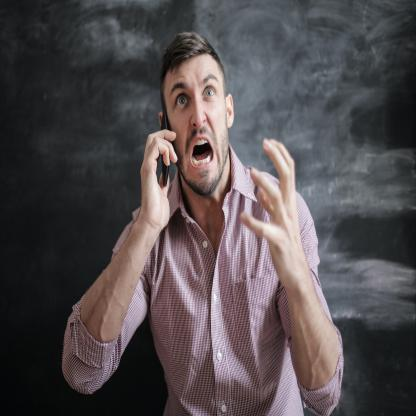Eye: (201, 86, 217, 100), (175, 94, 190, 108)
Mouth: (189, 135, 215, 171)
Nose: (190, 96, 207, 129)
